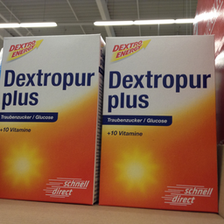tomato_sauce: (97, 35, 221, 213), (1, 34, 100, 205)
